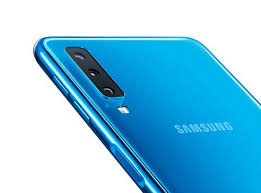samsung: (27, 23, 258, 193)
